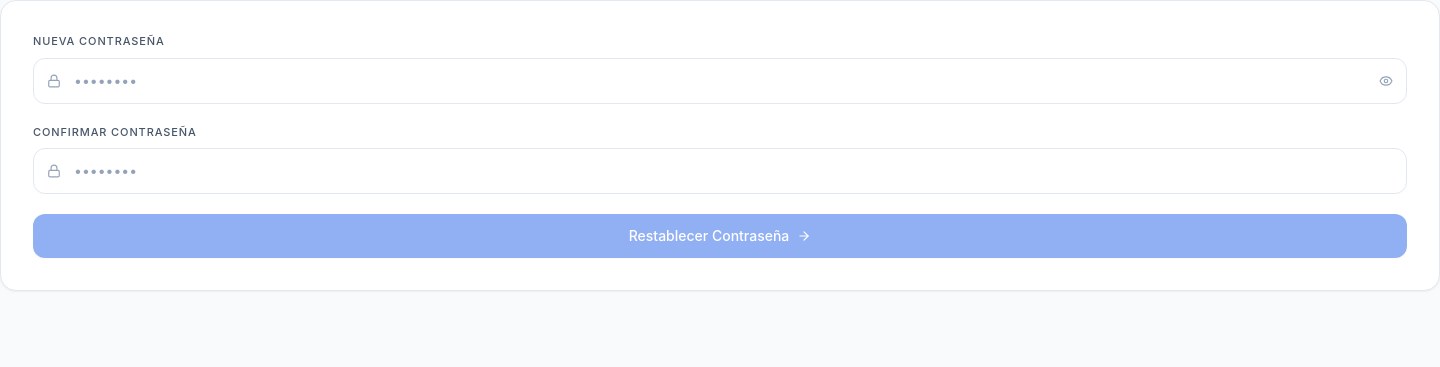
Scenario: ResetPassword › should show error on API failure
Type "newpass123" into the password field with placeholder "••••••••" at (720, 80), box [33, 58, 1407, 104]
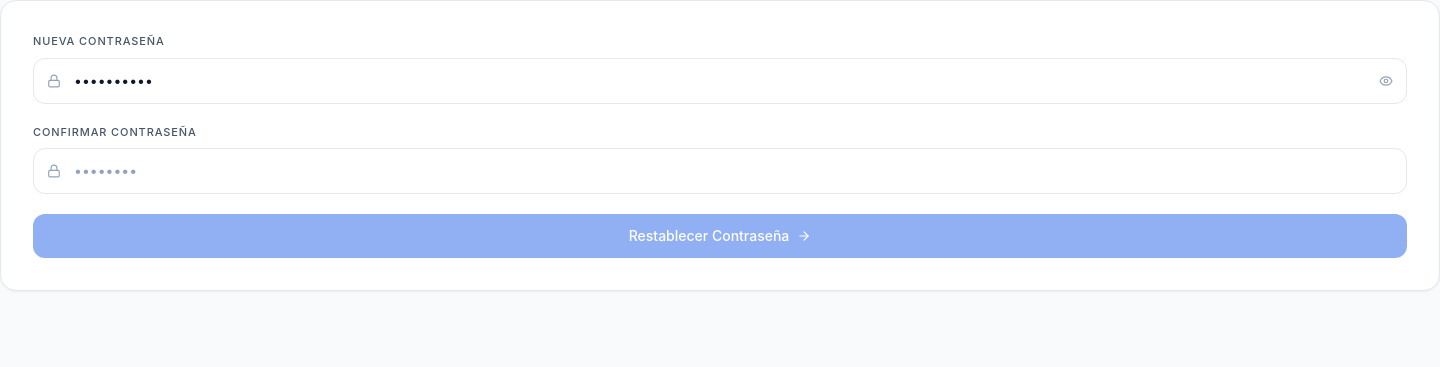
Type "newpass123" into the password field with placeholder "••••••••" at (720, 171), box [33, 148, 1407, 194]
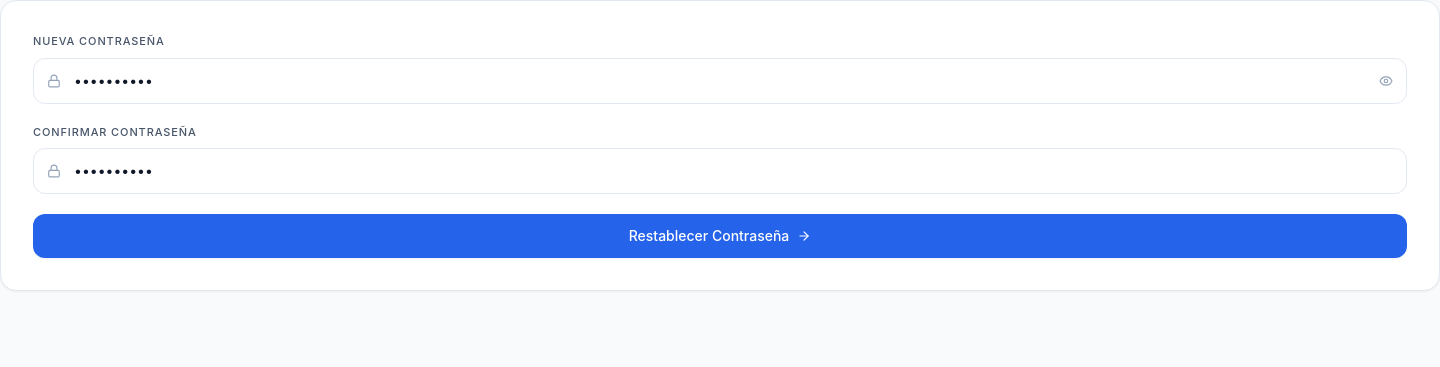
Click the button "Restablecer Contraseña" at (720, 236), box [33, 214, 1407, 258]
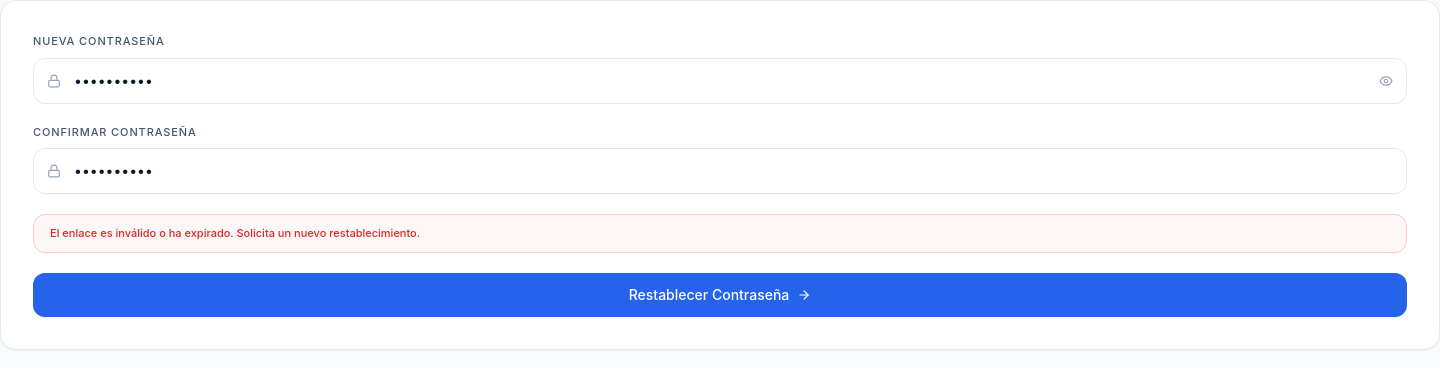
Now the text "El enlace es inválido o ha expirado" is shown, box [50, 226, 420, 240]
